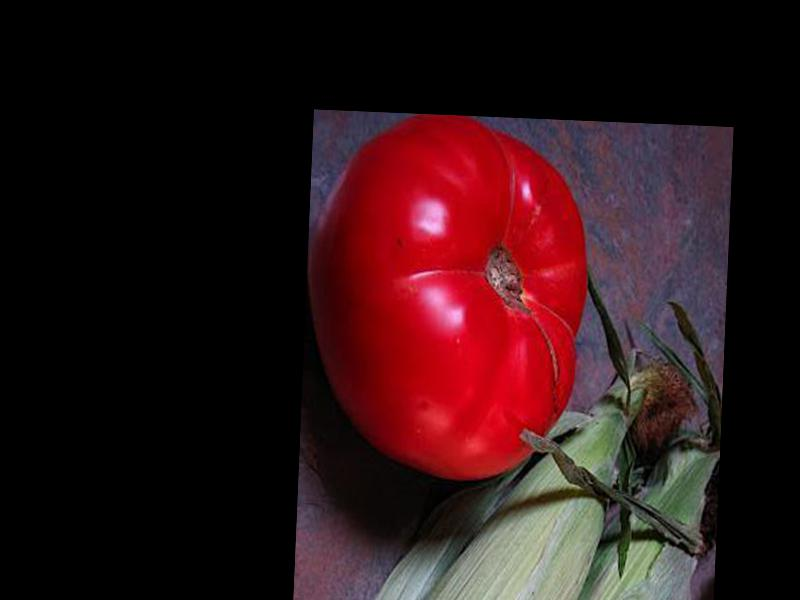Tomato: (302, 113, 594, 483)
